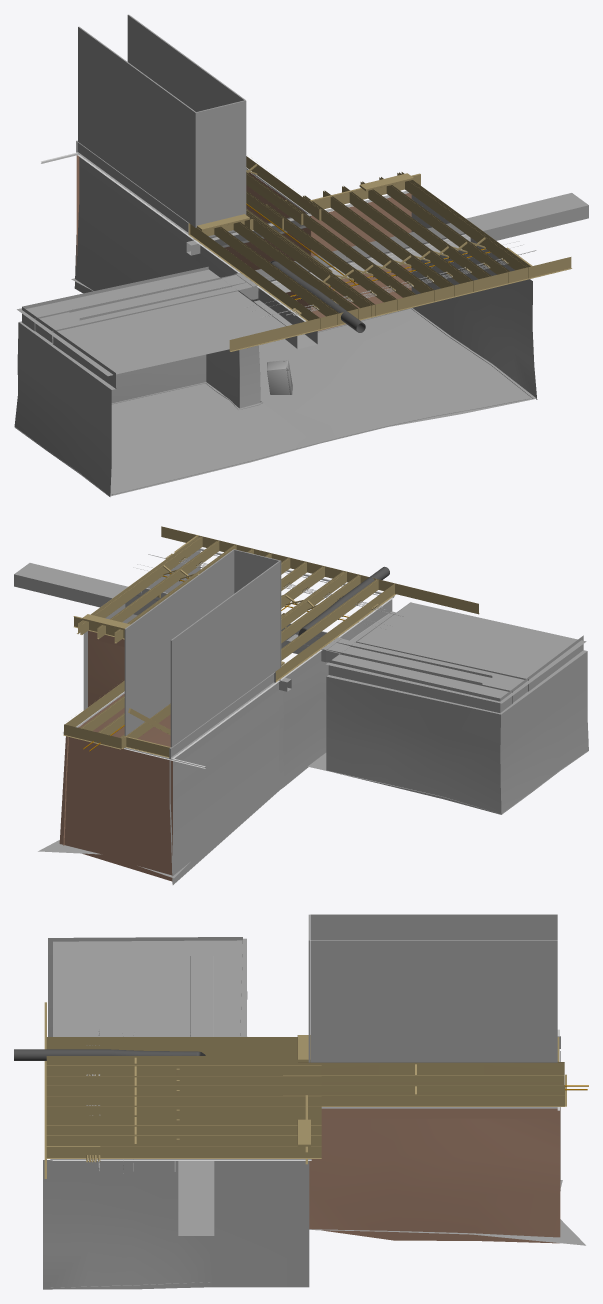
The model's file is basement_test.fbx.
3 renders of one model, top to bottom at view 1: azimuth 30°, elevation 25°; view 2: azimuth 150°, elevation 25°; view 3: azimuth 270°, elevation 25°, orthographic. The views are drawn at different scales.
Parts seen in each view (by area): view 1: left_wall, ceiling_2x9s, upstairs_wall, floor_01, floor_04, floor_03, right_wall, corner_wall, vent_piece_2, vent_pipe_01, Cube_1, pCube61 (+1 smaller); view 2: left_wall, upstairs_wall, ceiling_2x9s, floor_04, laundry_wall, right_wall, corner_wall, vent_piece_2, vent_pipe_01; view 3: ceiling_2x9s, upstairs_wall, right_wall, corner_wall, floor_04, left_wall, vent_pipe_01, floor_02, ceiling_2x4white_4.
Part boxes in pixels (x1,y1,x2,y2): left_wall: [14, 157, 317, 496]; ceiling_2x9s: [76, 140, 571, 351]; upstairs_wall: [78, 14, 246, 227]; floor_01: [258, 308, 536, 443]; floor_04: [17, 269, 285, 376]; floor_03: [15, 382, 317, 496]; right_wall: [411, 193, 588, 399]; corner_wall: [224, 172, 411, 331]; vent_piece_2: [69, 250, 351, 320]; vent_pipe_01: [270, 260, 365, 332]; Cube_1: [267, 359, 292, 394]; pCube61: [112, 398, 529, 494]; left_wall: [169, 599, 588, 884]; upstairs_wall: [124, 549, 281, 747]; ceiling_2x9s: [63, 526, 479, 759]; floor_04: [326, 602, 586, 703]; laundry_wall: [59, 736, 172, 881]; right_wall: [14, 550, 200, 722]; corner_wall: [63, 630, 170, 845]; vent_piece_2: [281, 634, 492, 684]; vent_pipe_01: [298, 566, 389, 636]; ceiling_2x9s: [44, 1002, 566, 1178]; upstairs_wall: [308, 914, 557, 1062]; right_wall: [43, 1160, 309, 1289]; corner_wall: [309, 1108, 560, 1243]; floor_04: [53, 938, 246, 1036]; left_wall: [48, 937, 560, 1190]; vent_pipe_01: [14, 1049, 205, 1060]; floor_02: [309, 1180, 585, 1245]; ceiling_2x4white_4: [52, 1159, 311, 1160].
Size of the model in its own units: 1143 by 529 by 992.
